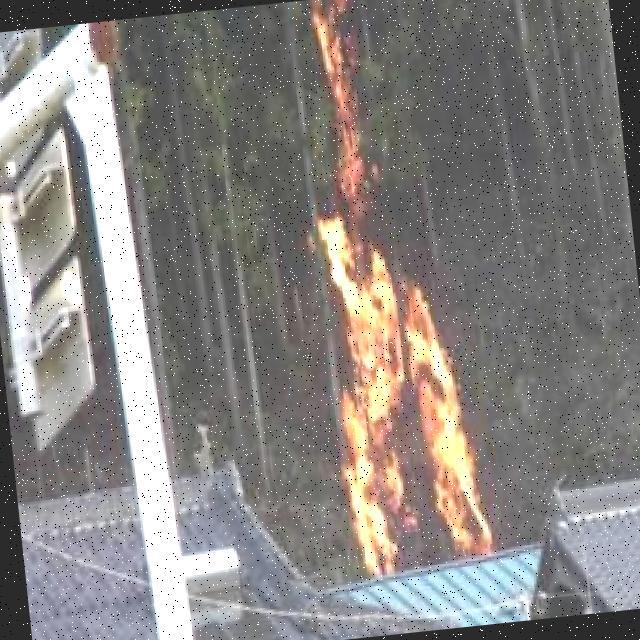Fire: (287, 2, 501, 582)
